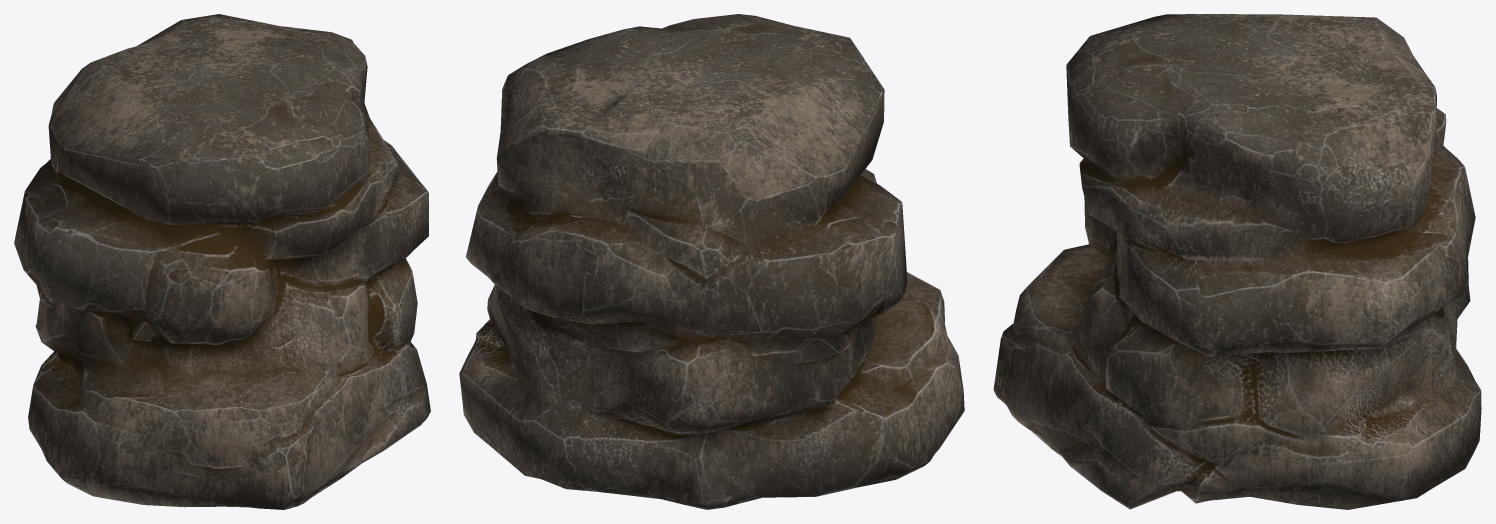
File: rock.glb
The picture shows the model from 3 angles, left to right: view 1: azimuth 30°, elevation 25°; view 2: azimuth 150°, elevation 25°; view 3: azimuth 270°, elevation 25°; orthographic projection. The views are drawn at different scales.
Visible parts, largest first — view 1: RetopoGroup002; view 2: RetopoGroup002; view 3: RetopoGroup002.
Part boxes in pixels (x1=…): RetopoGroup002: x1=14, y1=14, x2=430, y2=509; RetopoGroup002: x1=459, y1=14, x2=964, y2=509; RetopoGroup002: x1=993, y1=14, x2=1481, y2=509.
Bounding box in the file's own units: 1.96 × 1.81 × 2.
1 material, 1 textured.
